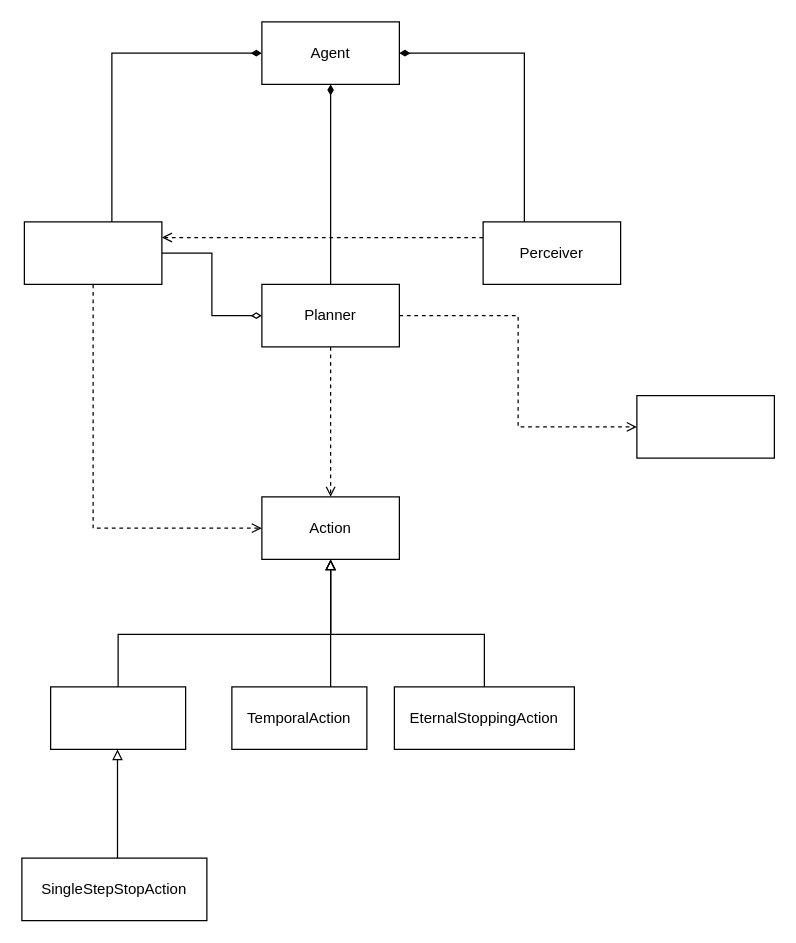
This 796x943 diagram has some shape labels left out. Each missing label, with the centre of its shape:
"BasicQueue" goes at (x=705, y=426).
"Controller" goes at (x=92, y=252).
"SteppedAction" goes at (x=117, y=717).
